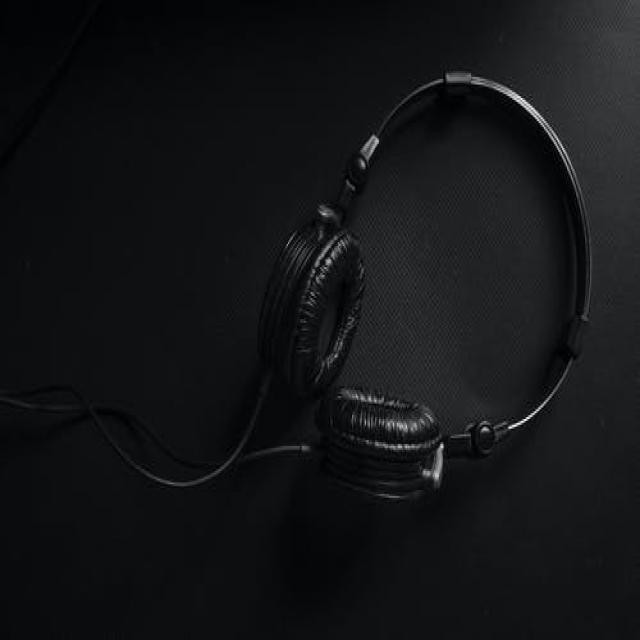Headphone: (254, 67, 596, 516)
